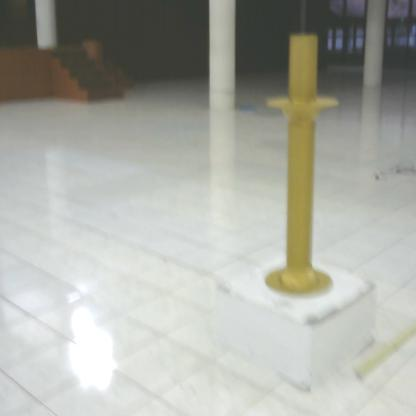pole: (258, 31, 341, 302)
